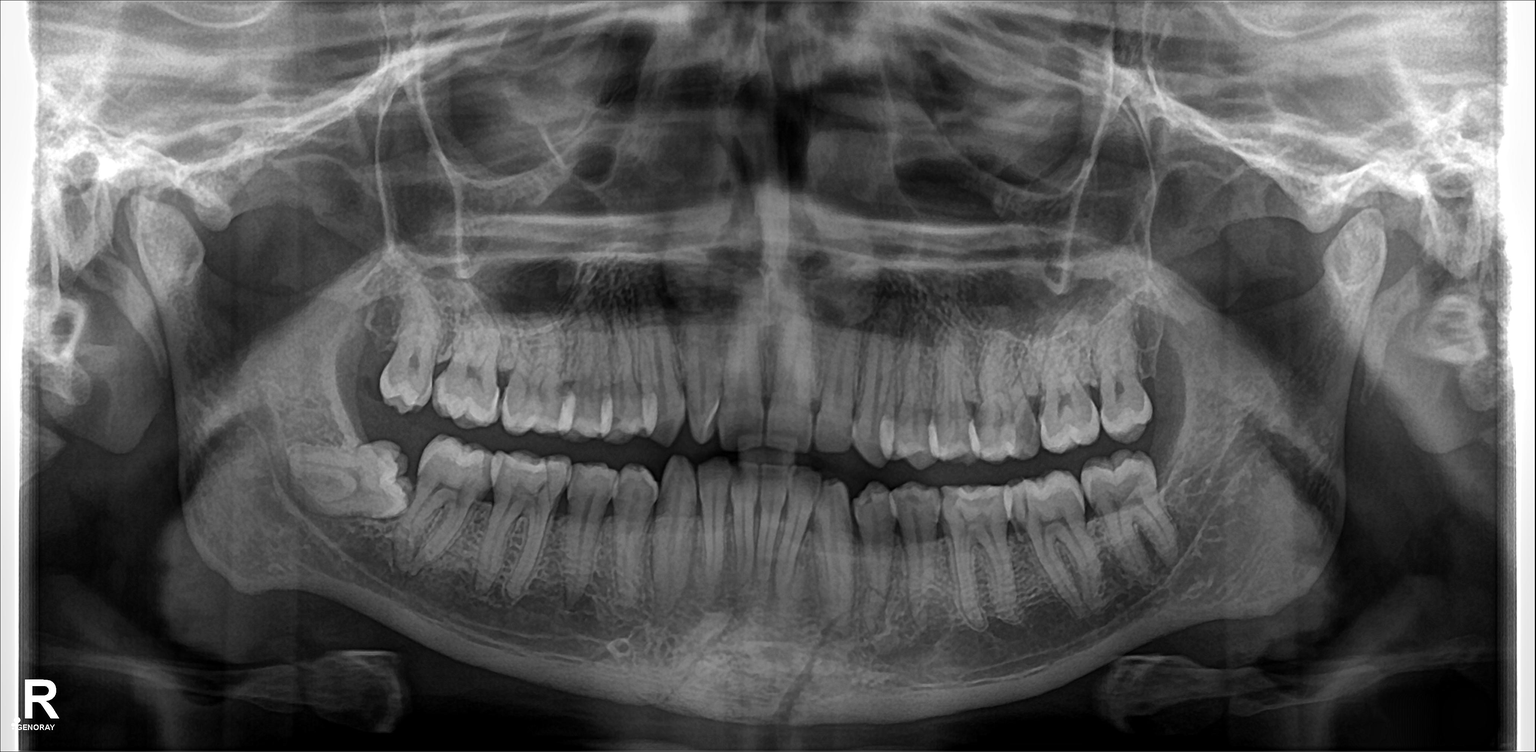Impacted Third Molar: (298, 443, 411, 518)
